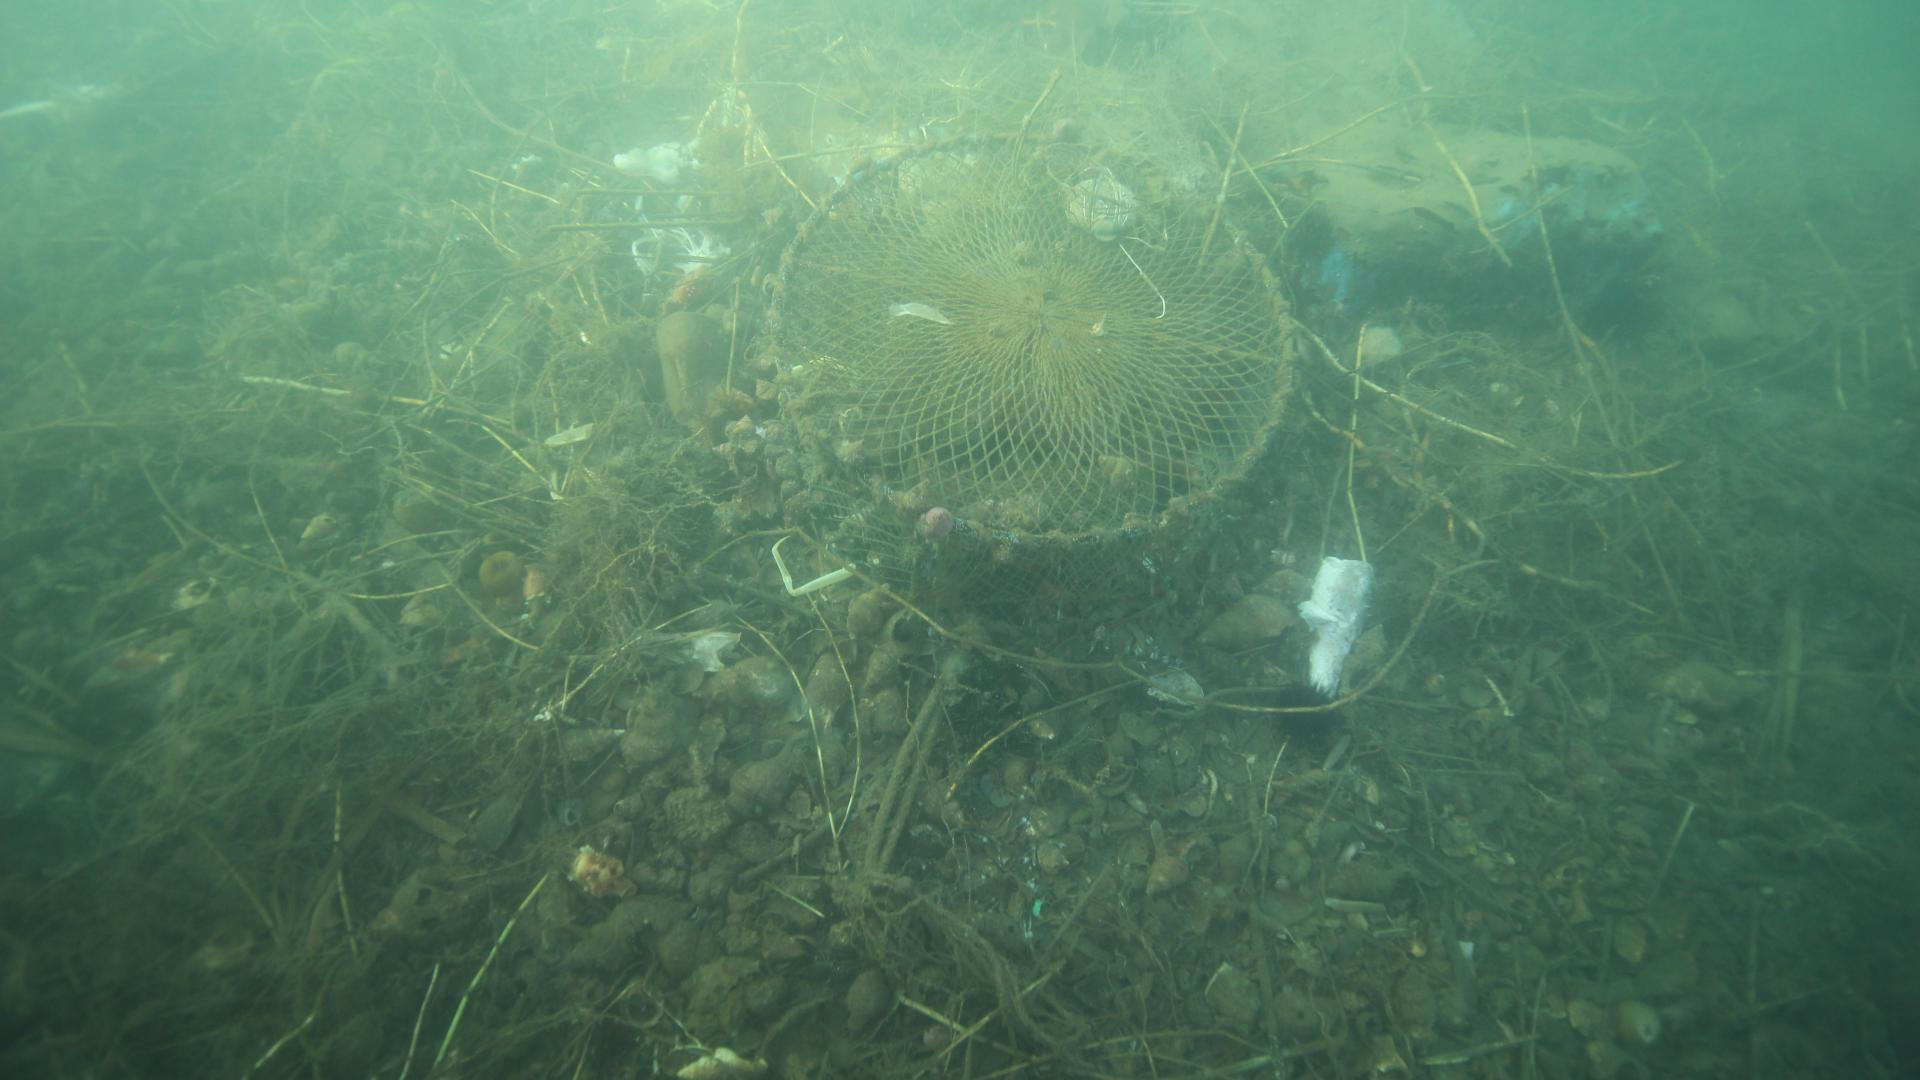bundle of ropes: (857, 673, 957, 889)
circular fish trap: (761, 124, 1302, 620)
